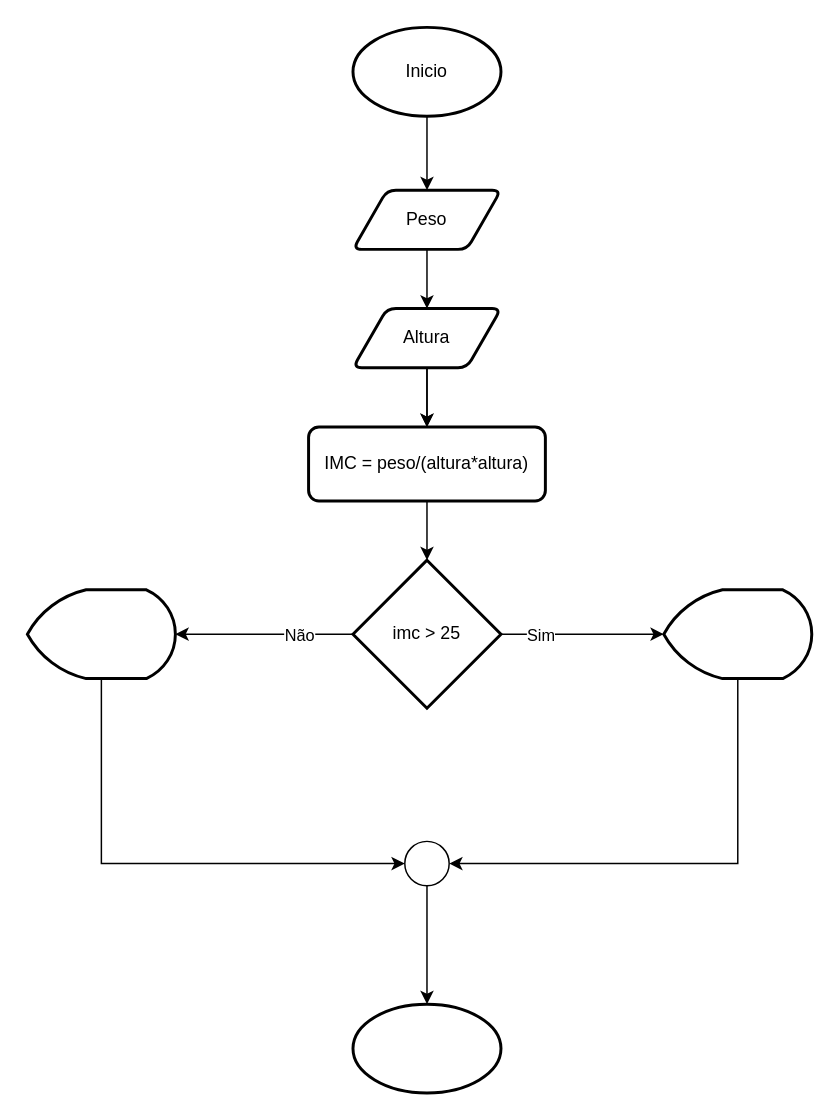
Image size: 838x1119. Some labels were removed from this diagram. The shapes that lost their labels are listed below. From the top down, each one's centre as x and y in pixels, then its label:
At [100,633]: "ICM = Resultado".
At [737,633]: "Indice acima".
At [426,1048]: "Fim".
